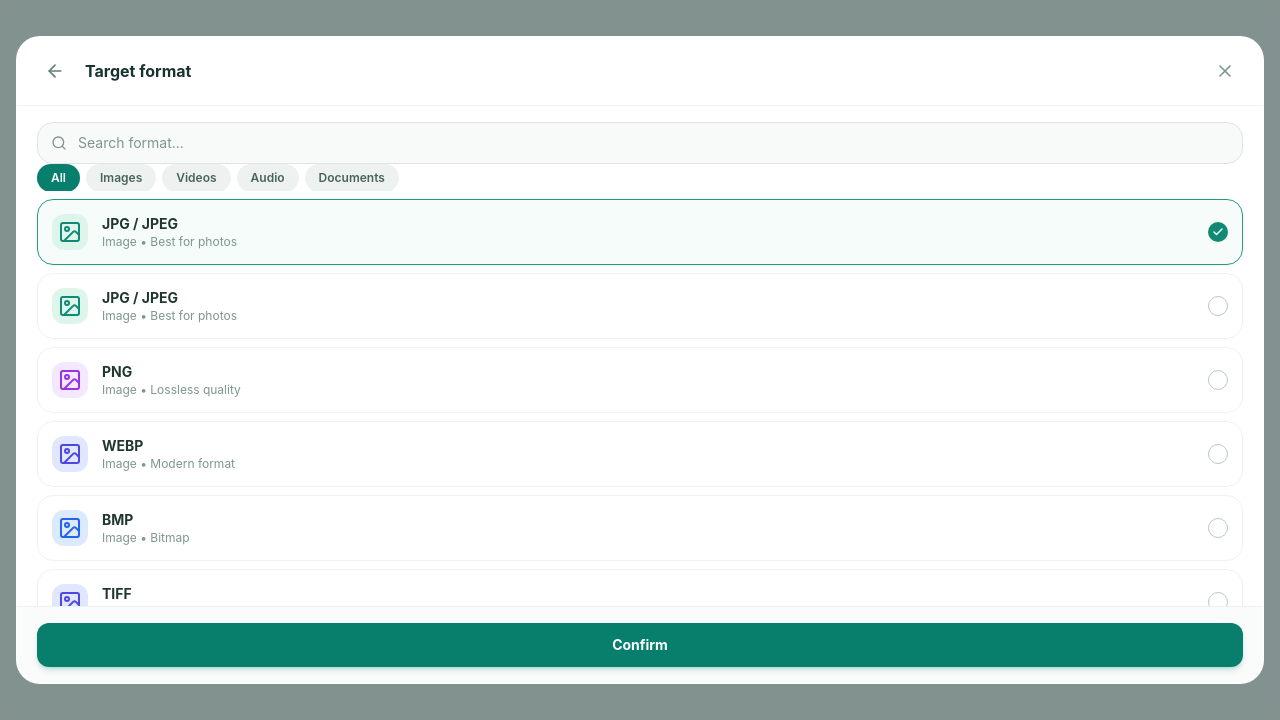
Test: TargetFormatModal › filters formats via search query
In the field with placeholder "Search format...": [640, 143] box 37,122 -> 1243,164, type "mp4"
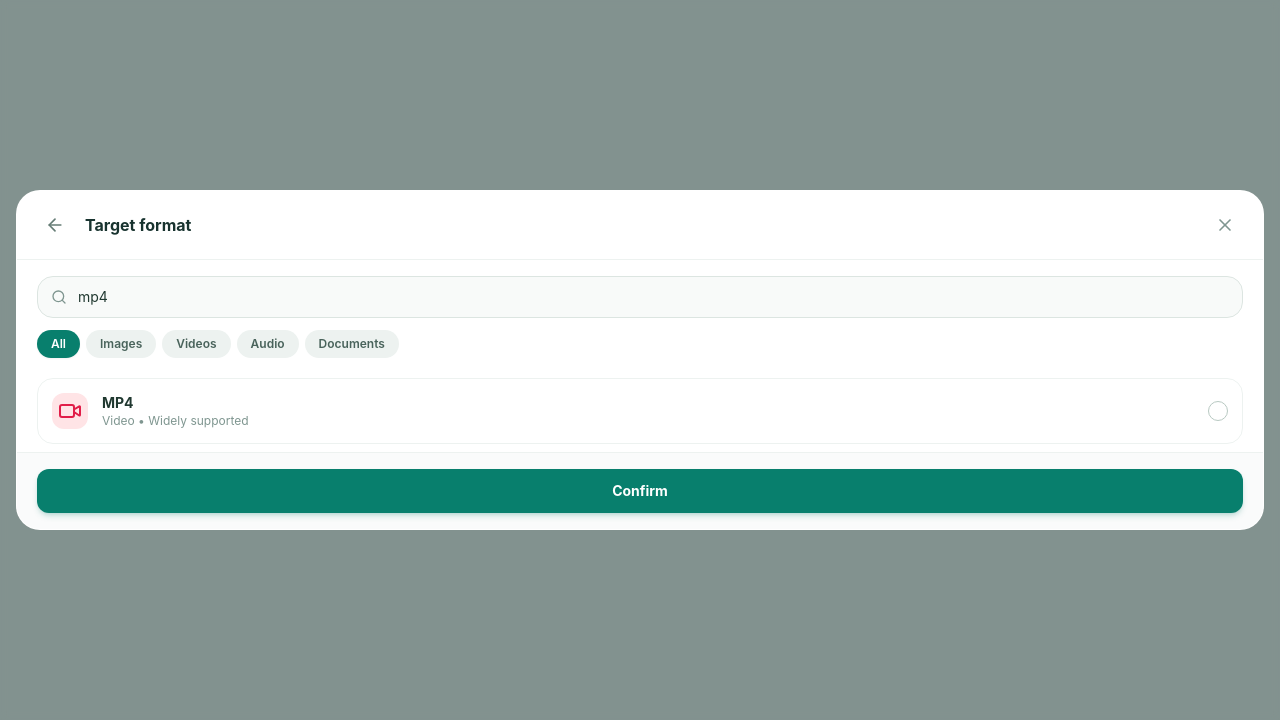
Now the text "MP4" is shown, box 102,394 -> 134,411
Now the button "JPG / JPEG" is gone
